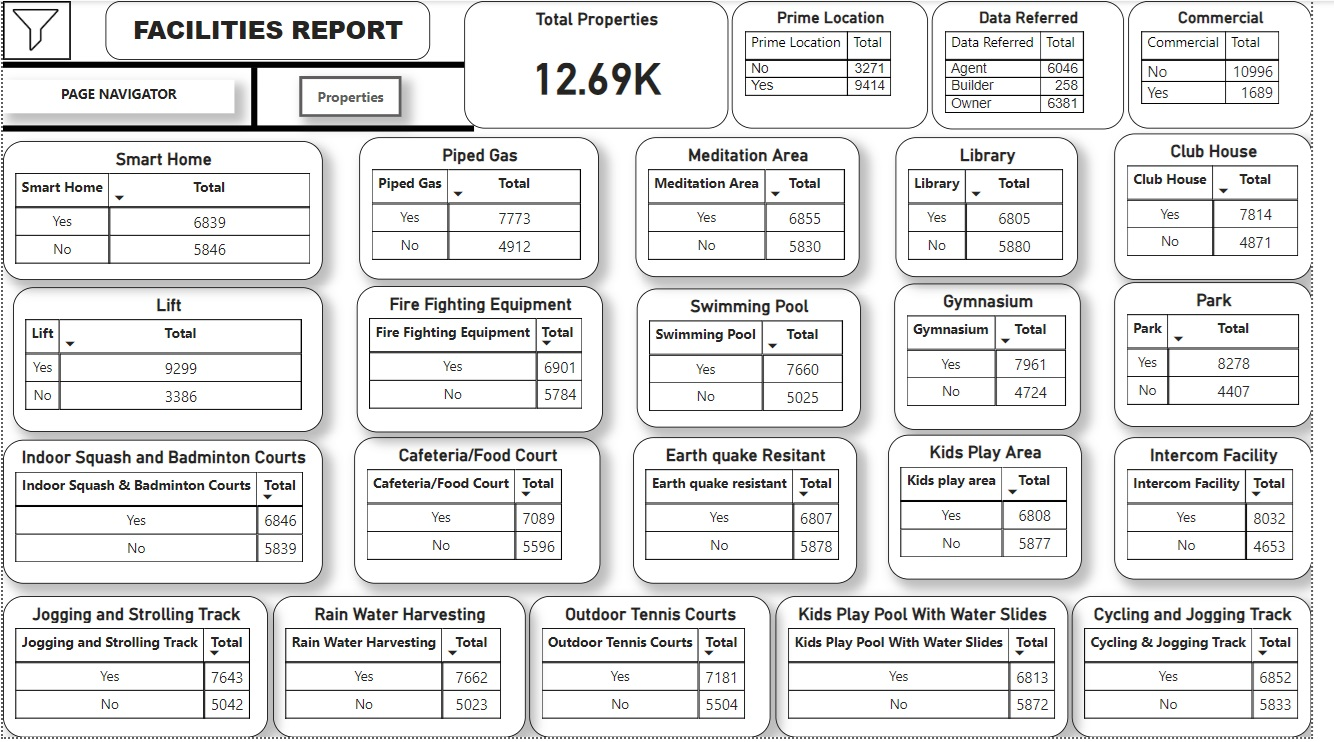

The page's visual inventory and layout, read from the dashboard file:
{"tool":"powerbi","page":{"name":"Facilites","canvas":[1280,720],"ordinal":1},"visuals":[{"type":"card","title":"Total Properties","fields":{"Values":["CountNonNull(properties.ID)"]},"box":[451.2,0,258,124.7],"z":0},{"type":"tableEx","title":"Commercial","fields":{"Values":["properties.Commercial","CountNonNull(properties.Commercial)"]},"box":[1100.2,0,179.8,124.7],"z":1000},{"type":"textbox","box":[99.7,0,317.9,57.5],"z":2000},{"type":"tableEx","title":"Data Referred","fields":{"Values":["properties.Data Referred From","CountNonNull(properties.Data Referred From)"]},"box":[908.9,0,187.8,125.2],"z":3000},{"type":"tableEx","title":"Prime Location","fields":{"Values":["properties.isPrimeLocationProperty","CountNonNull(properties.isPrimeLocationProperty)"]},"box":[713.1,0,192,124.7],"z":4000},{"type":"image","box":[0,0,66,57.5],"z":5000},{"type":"shape","box":[0,47.7,451.2,29.3],"z":9000},{"type":"shape","box":[0,110.1,461,29.3],"z":10000},{"type":"textbox","box":[0,77,226.2,33],"z":11000},{"type":"shape","box":[212.8,64.8,66,59.9],"z":12000},{"type":"actionButton","box":[289.8,73.4,100.3,40.4],"z":13000},{"type":"pivotTable","title":"Swimming Pool","fields":{"Rows":["properties.Swimming Pool"],"Values":["CountNonNull(properties.Swimming Pool)"]},"box":[620,280.6,218.9,135.7],"z":14000},{"type":"pivotTable","title":"Club House","fields":{"Rows":["properties.Club House"],"Values":["CountNonNull(properties.Club House)"]},"box":[1086.8,129.6,193.2,143.1],"z":15000},{"type":"pivotTable","title":"Gymnasium","fields":{"Rows":["properties.Gymnasium"],"Values":["CountNonNull(properties.Gymnasium)"]},"box":[871.9,275.7,182.2,143.1],"z":16000},{"type":"pivotTable","title":"Park","fields":{"Rows":["properties.Park"],"Values":["CountNonNull(properties.Park)"]},"box":[1086.8,275.1,193.2,141.8],"z":17000},{"type":"pivotTable","title":"Lift","fields":{"Rows":["properties.Lift"],"Values":["CountNonNull(properties.Lift)"]},"box":[9.8,280,303.3,141.8],"z":18000},{"type":"pivotTable","title":"Piped Gas","fields":{"Rows":["properties.Piped Gas"],"Values":["CountNonNull(properties.Piped Gas)"]},"box":[348.5,133.3,234.8,139.4],"z":19000},{"type":"pivotTable","title":"Earth quake Resitant","fields":{"Rows":["properties.Earth quake resistant"],"Values":["CountNonNull(properties.Earth quake resistant)"]},"box":[616.2,426.8,218.9,143.1],"z":20000},{"type":"pivotTable","title":"Cafeteria/Food Court","fields":{"Rows":["properties.Cafeteria/Food Court"],"Values":["CountNonNull(properties.Cafeteria/Food Court)"]},"box":[344.2,426.8,240.9,143.1],"z":21000},{"type":"pivotTable","title":"Indoor Squash and Badminton Courts","fields":{"Rows":["properties.Indoor Squash & Badminton Courts"],"Values":["CountNonNull(properties.Indoor Squash & Badminton Courts)"]},"box":[0,429.2,313,140.6],"z":22000},{"type":"pivotTable","title":"Smart Home","fields":{"Rows":["properties.Smart Home"],"Values":["CountNonNull(properties.Smart Home)"]},"box":[0,137,313,135.7],"z":23000},{"type":"pivotTable","title":"Library","fields":{"Rows":["properties.Library"],"Values":["CountNonNull(properties.Library)"]},"box":[873.1,133.3,178.5,137],"z":24000},{"type":"pivotTable","title":"Cycling and Jogging Track","fields":{"Rows":["properties.Cycling & Jogging Track"],"Values":["CountNonNull(properties.Cycling & Jogging Track)"]},"box":[1045.2,582.1,234.8,138.2],"z":25000},{"type":"pivotTable","title":"Intercom Facility","fields":{"Rows":["properties.Intercom Facility"],"Values":["CountNonNull(properties.Intercom Facility)"]},"box":[1086.8,426.8,193.2,139.4],"z":26000},{"type":"pivotTable","title":"Kids Play Area","fields":{"Rows":["properties.Kids play area"],"Values":["CountNonNull(properties.Kids play area)"]},"box":[866.1,424.3,189.5,141.8],"z":27000},{"type":"pivotTable","title":"Kids Play Pool With Water Slides","fields":{"Rows":["properties.Kids Play Pool With Water Slides"],"Values":["CountNonNull(properties.Kids Play Pool With Water Slides)"]},"box":[755.1,582.1,286.1,138.2],"z":28000},{"type":"pivotTable","title":"Outdoor Tennis Courts","fields":{"Rows":["properties.Outdoor Tennis Courts"],"Values":["CountNonNull(properties.Outdoor Tennis Courts)"]},"box":[514.8,582.1,236,138.2],"z":29000},{"type":"pivotTable","title":"Rain Water Harvesting","fields":{"Rows":["properties.Rain Water Harvesting"],"Values":["CountNonNull(properties.Rain Water Harvesting)"]},"box":[263.5,582.1,247,138.2],"z":30000},{"type":"pivotTable","title":"Jogging and Strolling Track","fields":{"Rows":["properties.Jogging and Strolling Track"],"Values":["CountNonNull(properties.Jogging and Strolling Track)"]},"box":[0,582.1,259.2,138.2],"z":31000},{"type":"pivotTable","title":"Fire Fighting Equipment","fields":{"Rows":["properties.Fire Fighting Equipment"],"Values":["CountNonNull(properties.Fire Fighting Equipment)"]},"box":[346.1,278.2,240.9,143.1],"z":32000},{"type":"pivotTable","title":"Meditation Area","fields":{"Rows":["properties.Meditation Area"],"Values":["CountNonNull(properties.Meditation Area)"]},"box":[618.8,133.3,218.9,137],"z":33000}]}

Visuals, with their boxes in screenshot pixels (x1, y1, x2, y2), scaled from the page's 1280x720 canvas onto the 1334x742 screenshot:
"Total Properties" card: box(470, 0, 739, 129)
"Commercial" tableEx: box(1147, 0, 1333, 129)
textbox: box(104, 0, 435, 59)
"Data Referred" tableEx: box(947, 0, 1143, 129)
"Prime Location" tableEx: box(743, 0, 943, 129)
image: box(0, 0, 69, 59)
shape: box(0, 49, 470, 79)
shape: box(0, 113, 480, 144)
textbox: box(0, 79, 236, 113)
shape: box(222, 67, 291, 129)
actionButton: box(302, 76, 407, 117)
"Swimming Pool" pivotTable: box(646, 289, 874, 429)
"Club House" pivotTable: box(1133, 134, 1333, 281)
"Gymnasium" pivotTable: box(909, 284, 1099, 432)
"Park" pivotTable: box(1133, 284, 1333, 430)
"Lift" pivotTable: box(10, 289, 326, 435)
"Piped Gas" pivotTable: box(363, 137, 608, 281)
"Earth quake Resitant" pivotTable: box(642, 440, 870, 587)
"Cafeteria/Food Court" pivotTable: box(359, 440, 610, 587)
"Indoor Squash and Badminton Courts" pivotTable: box(0, 442, 326, 587)
"Smart Home" pivotTable: box(0, 141, 326, 281)
"Library" pivotTable: box(910, 137, 1096, 279)
"Cycling and Jogging Track" pivotTable: box(1089, 600, 1333, 741)
"Intercom Facility" pivotTable: box(1133, 440, 1333, 584)
"Kids Play Area" pivotTable: box(903, 437, 1100, 583)
"Kids Play Pool With Water Slides" pivotTable: box(787, 600, 1085, 741)
"Outdoor Tennis Courts" pivotTable: box(537, 600, 782, 741)
"Rain Water Harvesting" pivotTable: box(275, 600, 532, 741)
"Jogging and Strolling Track" pivotTable: box(0, 600, 270, 741)
"Fire Fighting Equipment" pivotTable: box(361, 287, 612, 434)
"Meditation Area" pivotTable: box(645, 137, 873, 279)
